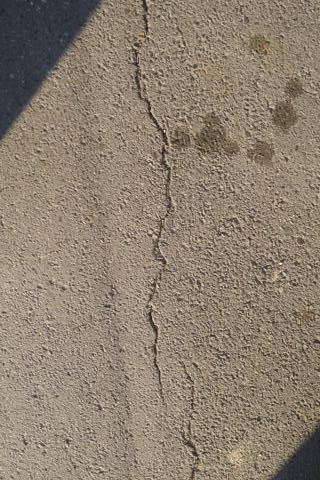A: (121, 3, 208, 480)
